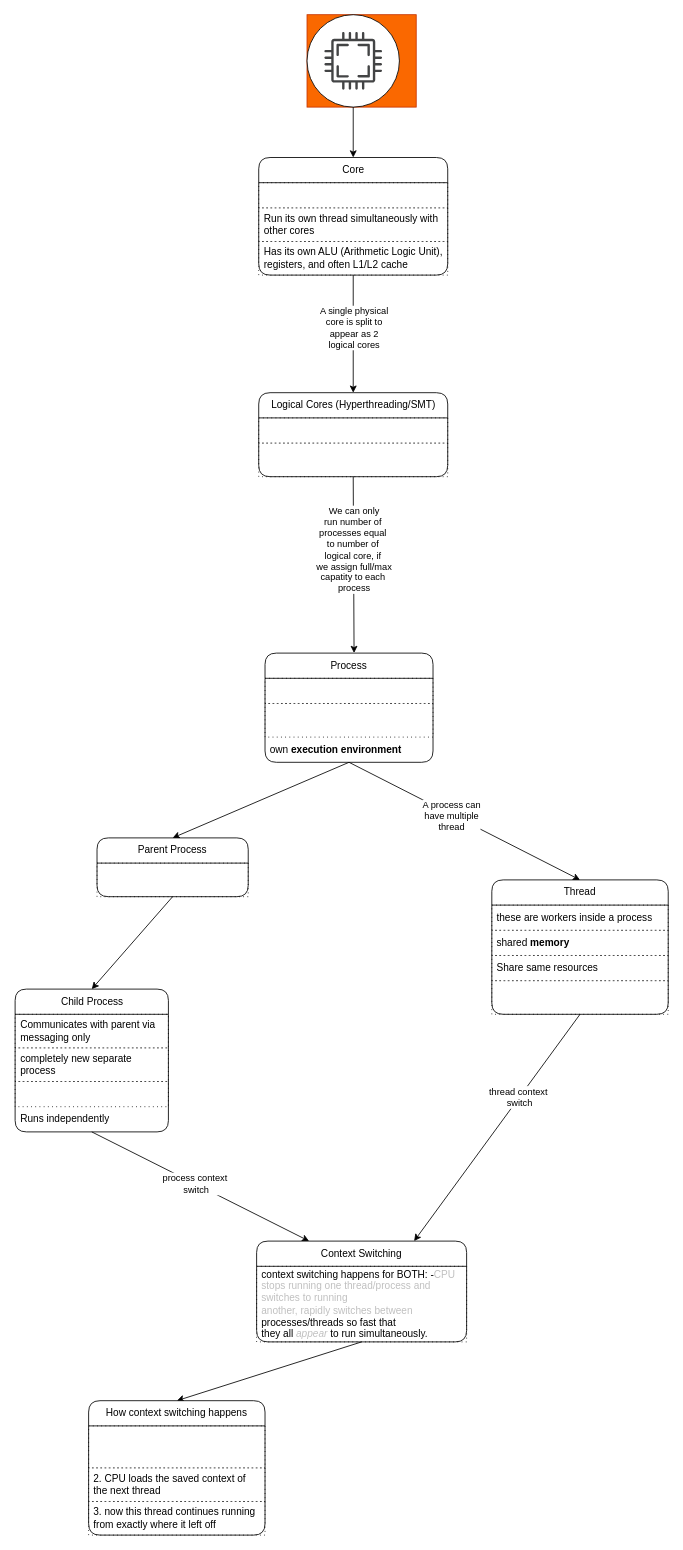
Image size: 683x1550. Some labels were removed from this diagram. The centre of each missing label's shape, as x and y in pixels:
"1. CPU saves all registers, program counter, etc. to memory of current thead" belongs at (176,1446).
"Can run 2 threads, but they compete for the same resources" belongs at (353,459).
"Execute instructions independently" belongs at (353,195).
"Its own memory" belongs at (348,690).
"own instance" belongs at (91,1094).
"own resources (files, network connections, etc.)" belongs at (348,720).
"Run independently but can easily communicate" belongs at (579,997).
"Shares the same execution units" belongs at (353,430).
"The process that creates another process" belongs at (172,879).
